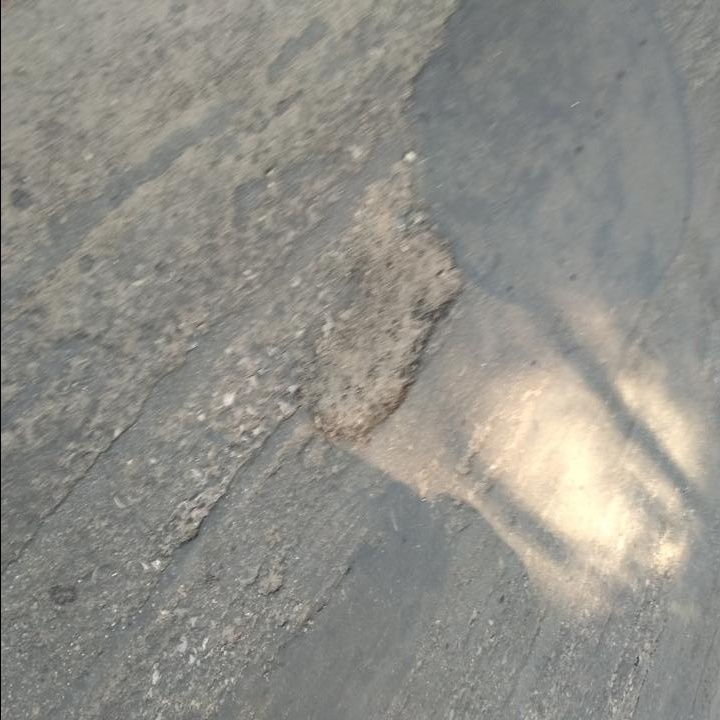pothole: (299, 151, 468, 438)
